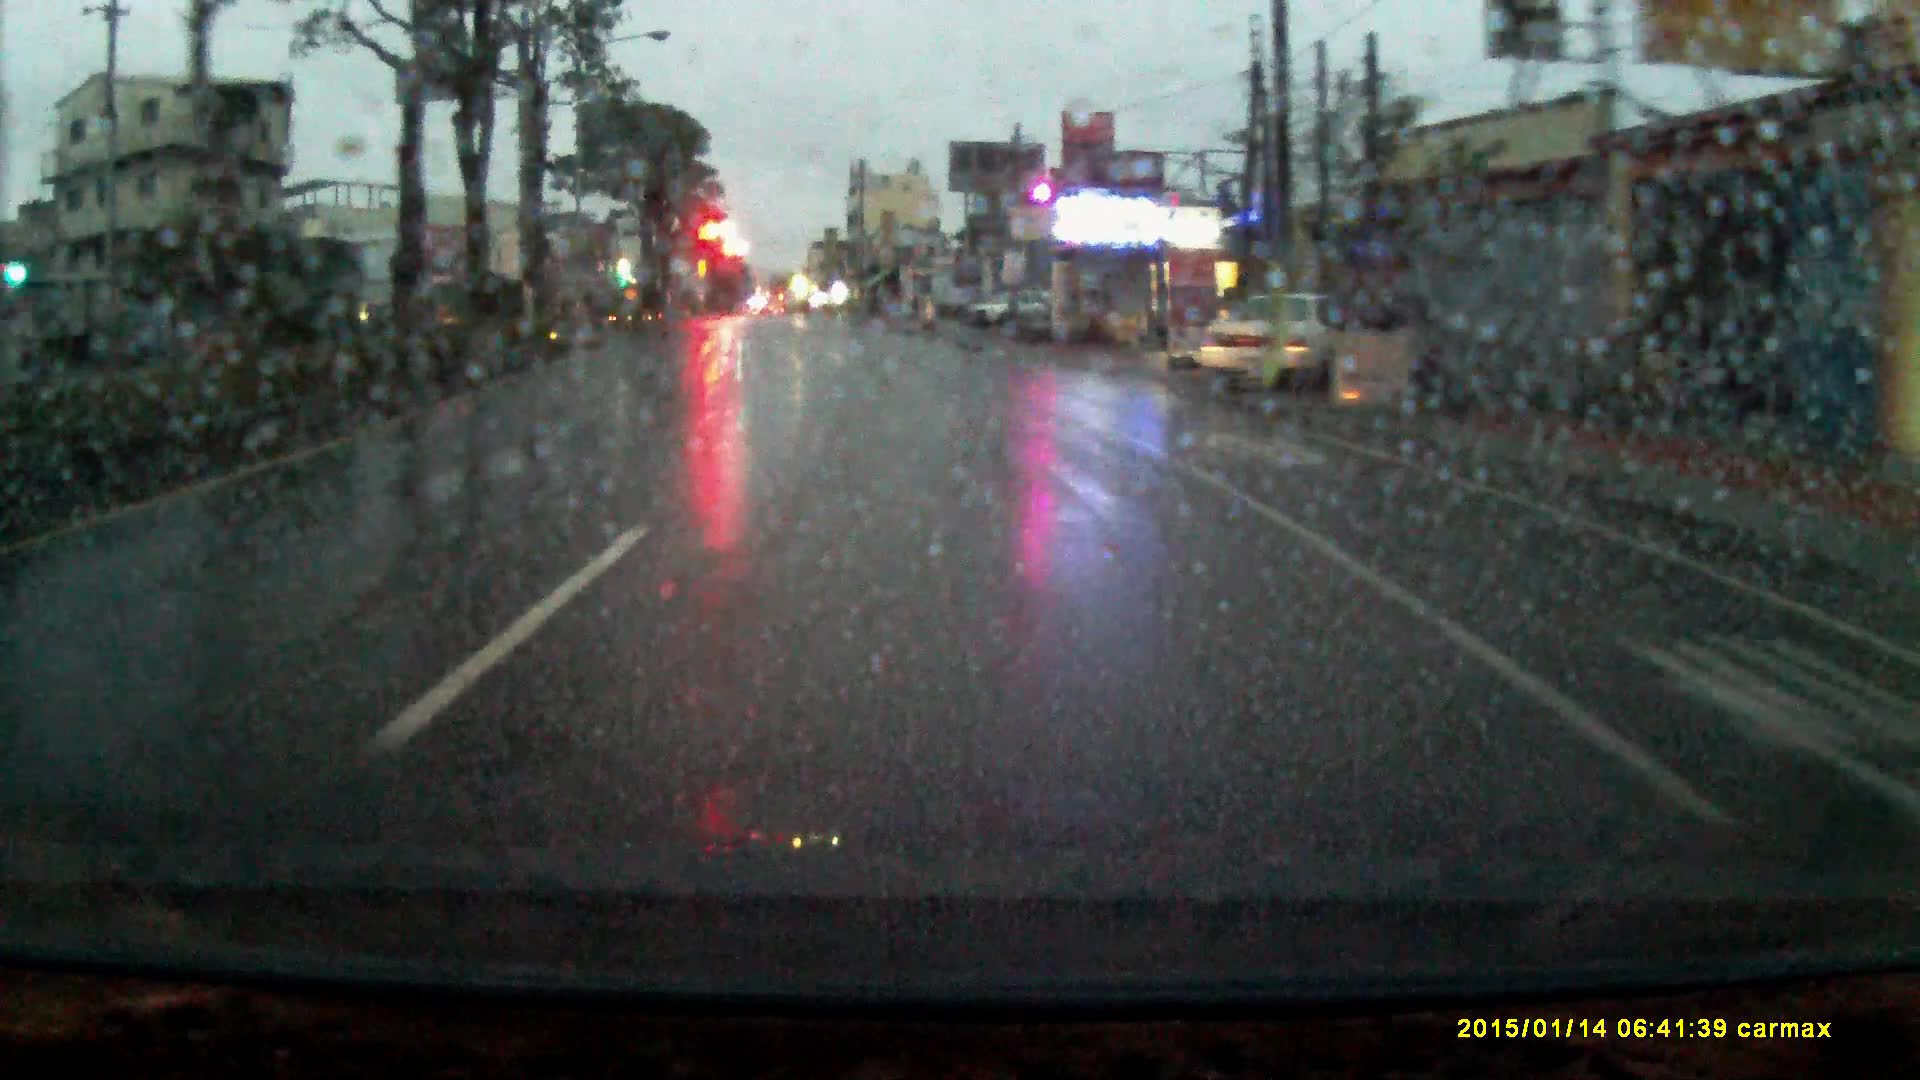vehicle: (1211, 289, 1379, 394), (975, 289, 1056, 326), (549, 291, 591, 324)
